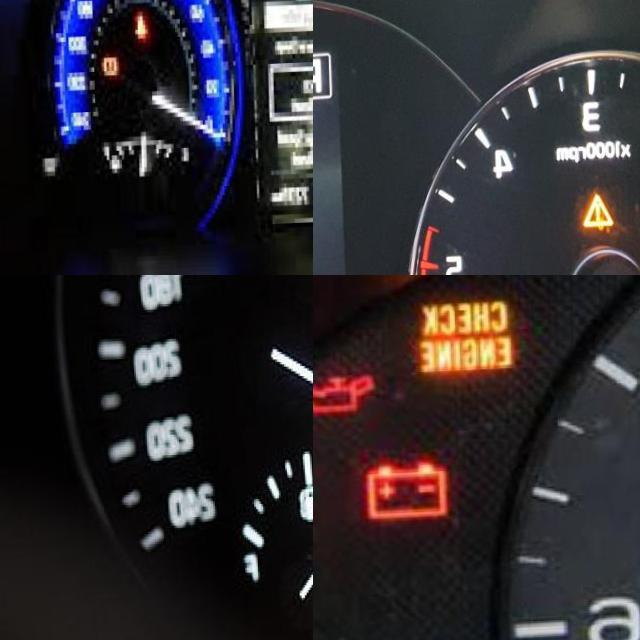Central Warning lamp: (581, 195, 612, 232)
Seat Belt: (132, 14, 148, 45)
